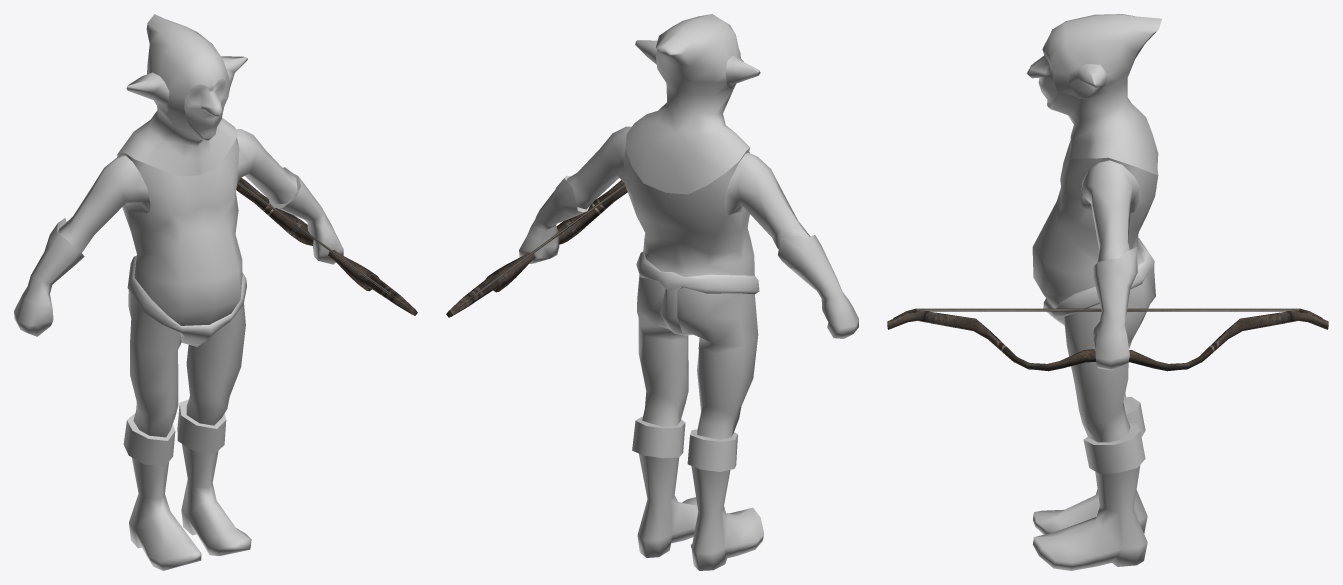
Rendered from goblin_Archer.fbx.
3 views of the same model, side by side, from view 1: azimuth 30°, elevation 25°; view 2: azimuth 150°, elevation 25°; view 3: azimuth 270°, elevation 25° (orthographic). The views are drawn at different scales.
Parts seen in each view (by area): view 1: Goblin_Ranger_R1, BW_CompositeBow_R1; view 2: Goblin_Ranger_R1, BW_CompositeBow_R1; view 3: Goblin_Ranger_R1, BW_CompositeBow_R1.
Part boxes in pixels (x1,y1,x2,y2): Goblin_Ranger_R1: [14, 14, 343, 570]; BW_CompositeBow_R1: [236, 177, 417, 315]; Goblin_Ranger_R1: [519, 14, 858, 570]; BW_CompositeBow_R1: [446, 180, 627, 317]; Goblin_Ranger_R1: [1026, 14, 1161, 570]; BW_CompositeBow_R1: [887, 308, 1328, 371].
Size of the model in its own units: 99.18 by 151 by 113.
